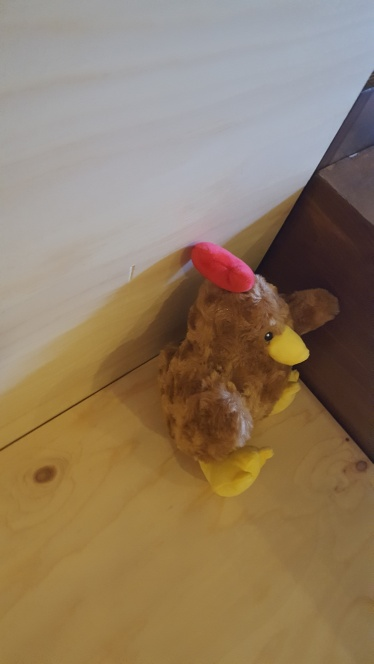chicken_left: (161, 240, 267, 500)
